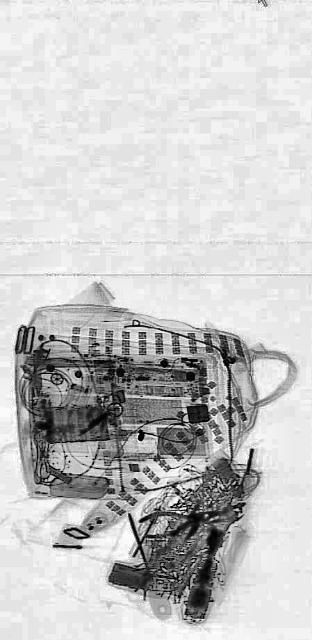Pliers: (138, 502, 218, 540)
